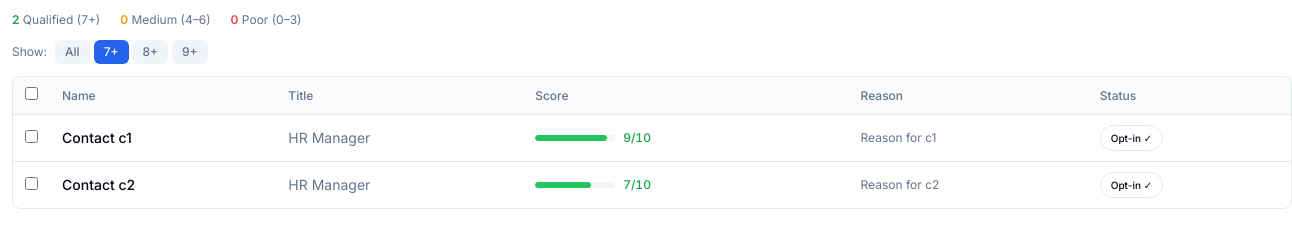
Test: RankResultsPanel › threshold filter › hides contacts below 8 when 8+ is selected
Click the button "8+" at [150, 52], box [132,40,168,64]
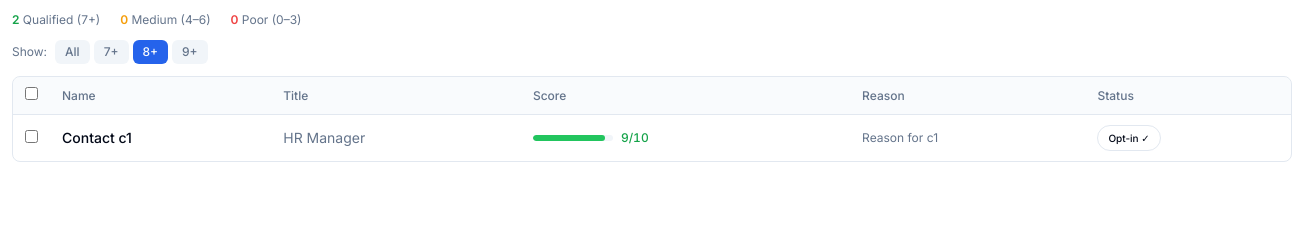
Expected: the text "Contact c1" is shown, [62,129,132,146]
Now the text "Contact c2" is gone
